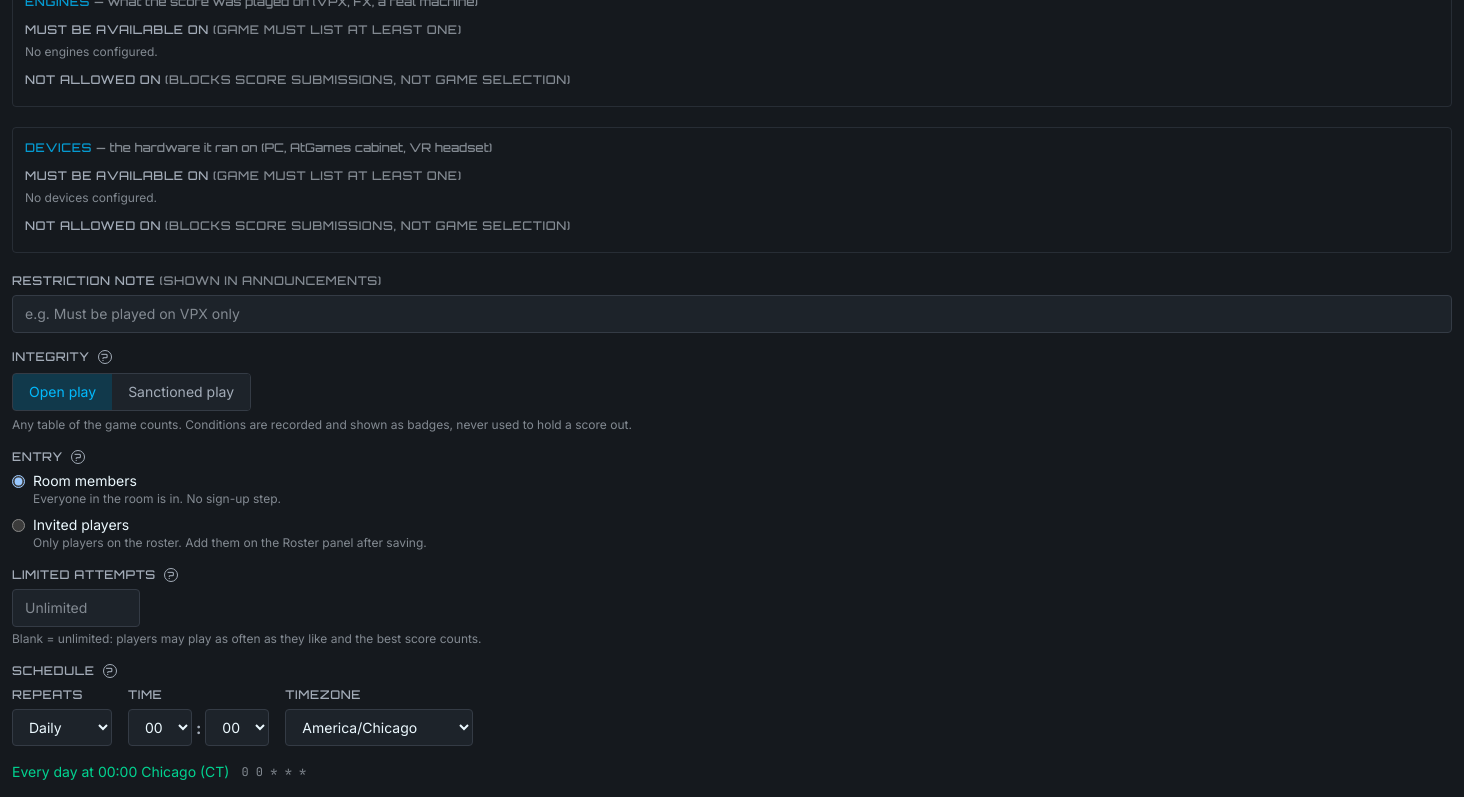
Test case: TournamentForm — Integrity section › switching to Sanctioned play shows the rule fields with the server defaults
(page scrolled)
Click the button "Sanctioned play" at (181, 392), box [112,374,250,410]
(page scrolled)
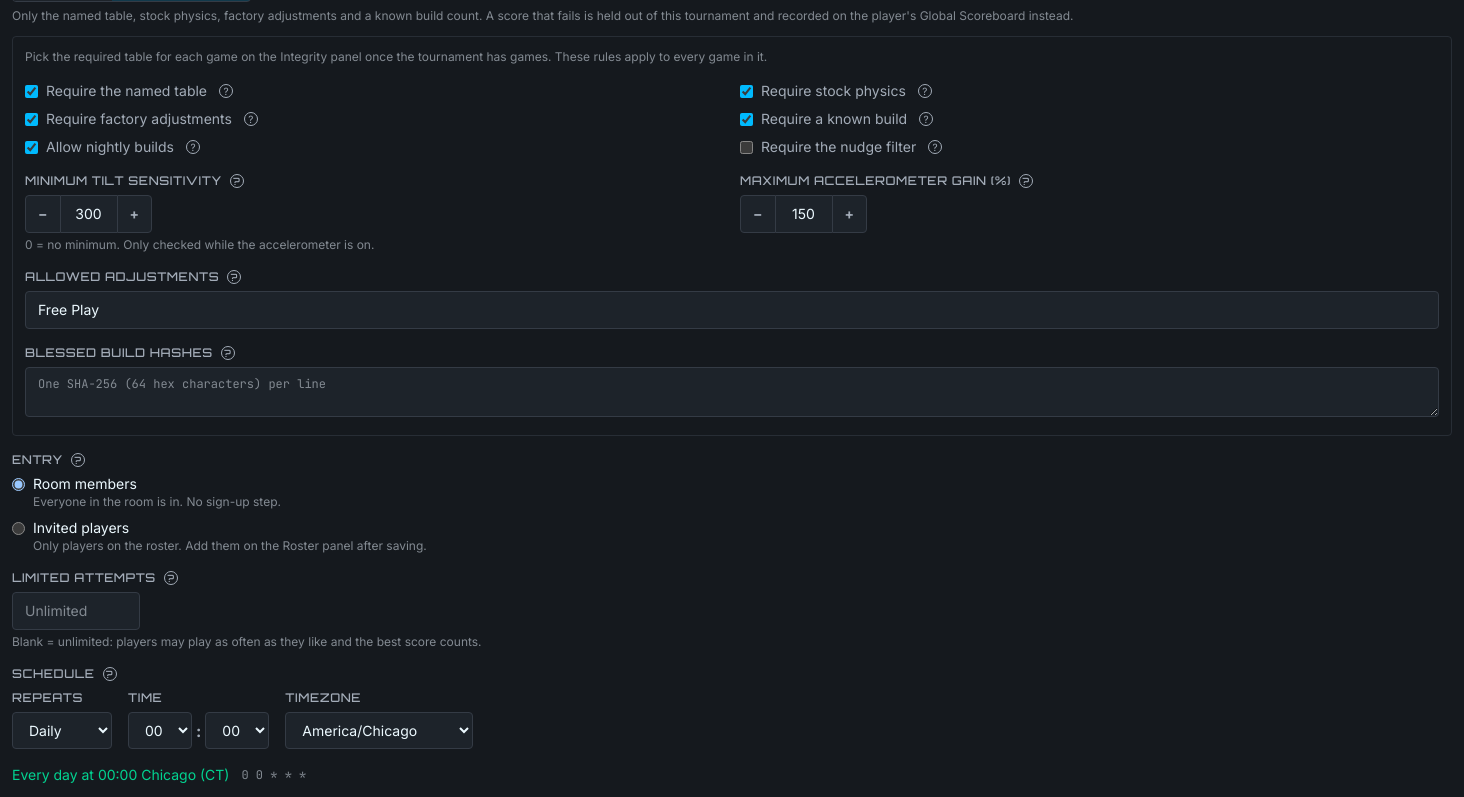
Check: the text "held out of this tournament" is shown, box [12,8,1074,23]
Check: the element with test id "sanctioned-rules" is shown, box [12,36,1452,436]
Check: the checkbox labelled "Require the named table" is checked, box [25,84,38,98]
